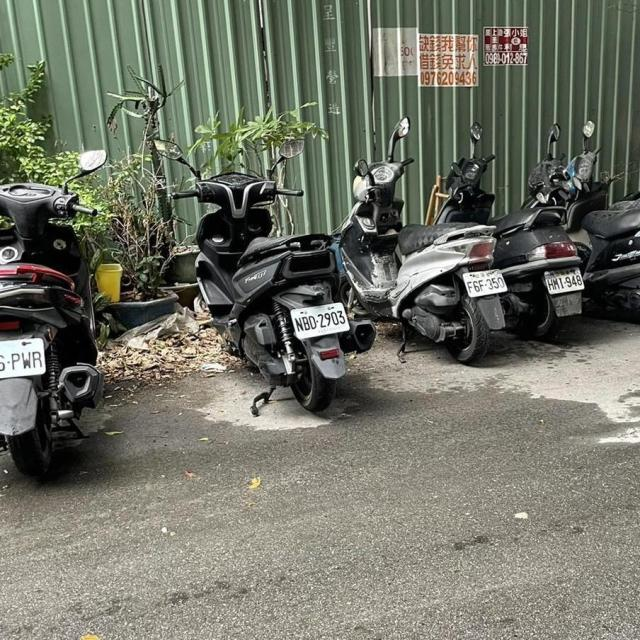W: (287, 299, 353, 340), (0, 334, 50, 383), (457, 264, 509, 300), (538, 263, 588, 296)
